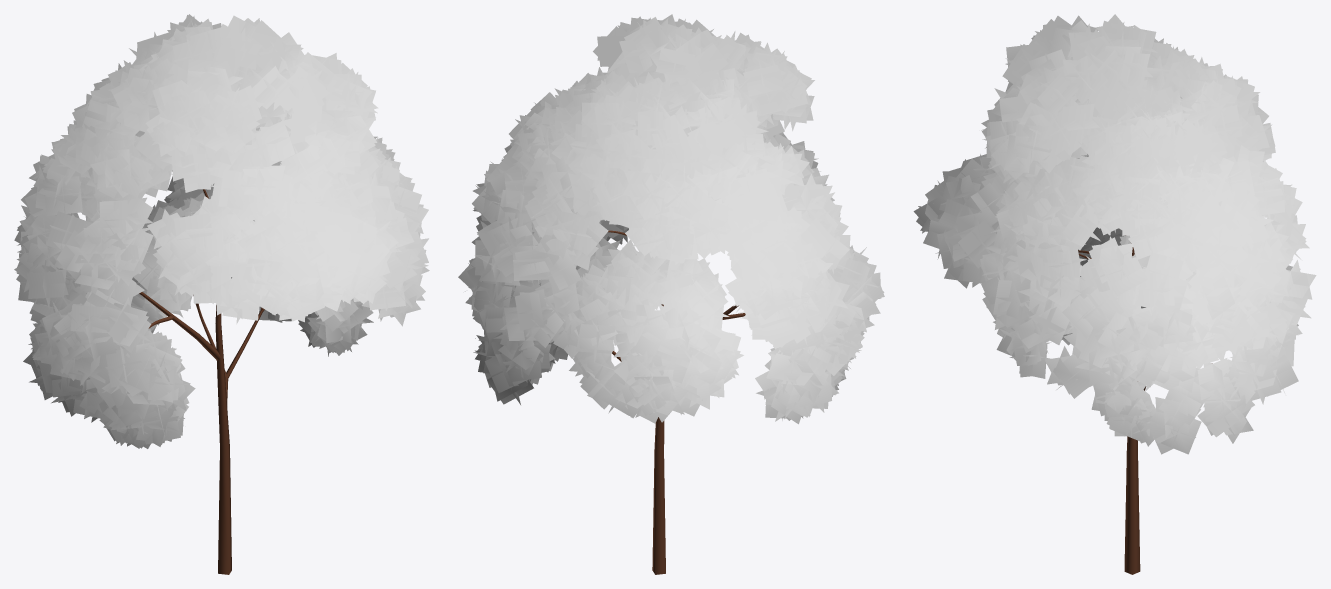
File: Tree.fbx
3 renders of one model, left to right at view 1: azimuth 30°, elevation 25°; view 2: azimuth 150°, elevation 25°; view 3: azimuth 270°, elevation 25°, orthographic. The views are drawn at different scales.
Parts seen in each view (by area): view 1: Leaves, Trunk; view 2: Leaves, Trunk; view 3: Leaves, Trunk.
Boxes of the visible parts, x1=… form: Leaves: x1=14, y1=14, x2=429, y2=448; Trunk: x1=139, y1=189, x2=264, y2=574; Leaves: x1=458, y1=14, x2=884, y2=424; Trunk: x1=608, y1=230, x2=745, y2=574; Leaves: x1=913, y1=14, x2=1316, y2=454; Trunk: x1=1078, y1=235, x2=1212, y2=574.
Bounding box in the file's own units: 5.42 × 7.61 × 5.12.
